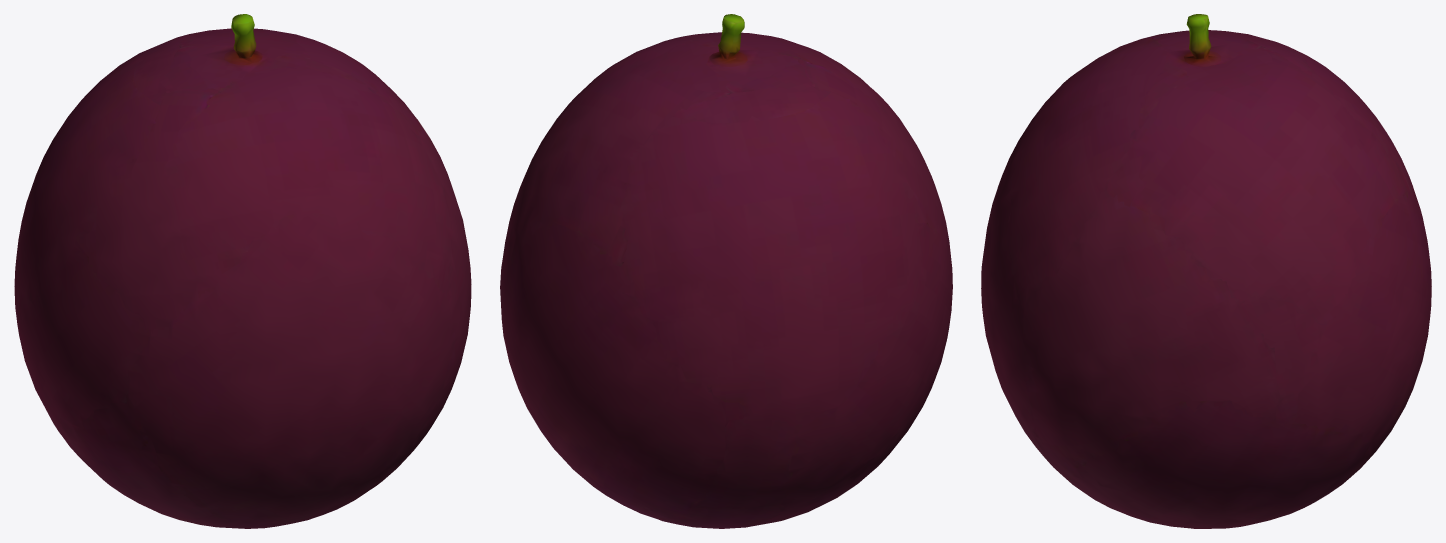
File: passionfruit.glb
3 views of the same model, side by side, from view 1: azimuth 30°, elevation 25°; view 2: azimuth 150°, elevation 25°; view 3: azimuth 270°, elevation 25° (orthographic).
Parts seen in each view (by area): view 1: material; view 2: material; view 3: material.
Part boxes in pixels (x1,y1,x2,y2): material: [14, 14, 471, 528]; material: [500, 14, 952, 528]; material: [981, 14, 1431, 528].
Bounding box in the file's own units: 0.9872 × 1.16 × 0.9854.
1 material, 1 textured.
